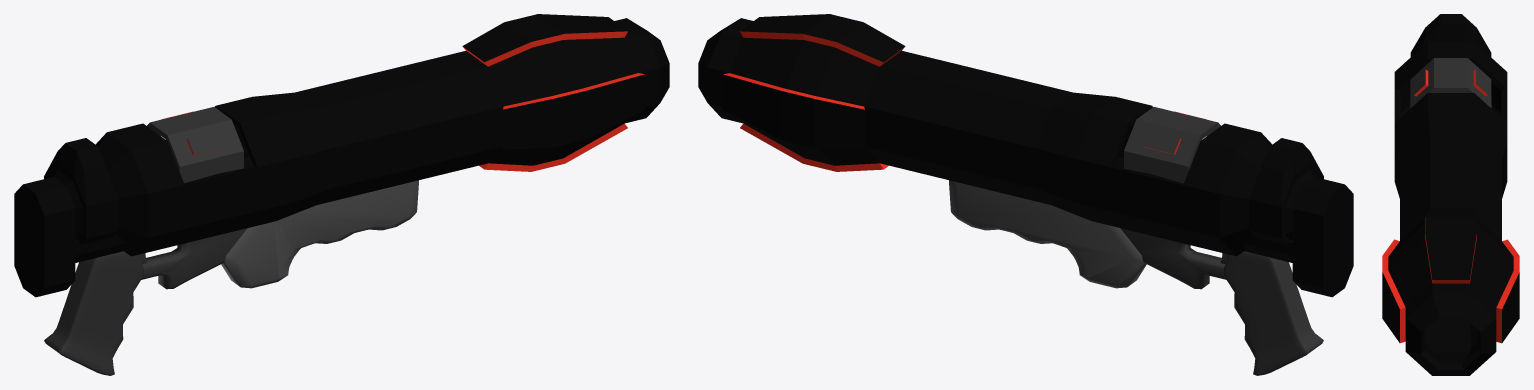
File: rocket launcher.fbx
3 renders of one model, left to right at view 1: azimuth 30°, elevation 25°; view 2: azimuth 150°, elevation 25°; view 3: azimuth 270°, elevation 25°, orthographic. The views are drawn at different scales.
Parts seen in each view (by area): view 1: Cylinder, Cube.002, Cube.001, Cylinder.001, Cube; view 2: Cylinder, Cube.002, Cube.001, Cylinder.001, Cube; view 3: Cylinder, Cylinder.001.
Boxes of the visible parts, x1,y1,x2,y2 form: Cylinder: [14, 14, 669, 297]; Cube.002: [221, 180, 418, 288]; Cube.001: [44, 251, 144, 375]; Cylinder.001: [147, 107, 243, 183]; Cube: [141, 228, 247, 289]; Cylinder: [698, 14, 1353, 297]; Cube.002: [949, 180, 1146, 288]; Cube.001: [1223, 251, 1323, 375]; Cylinder.001: [1124, 107, 1220, 183]; Cube: [1120, 228, 1226, 289]; Cylinder: [1382, 14, 1519, 375]; Cylinder.001: [1410, 58, 1491, 108].
Size of the model in its own units: 40.5 by 14.66 by 8.05.
